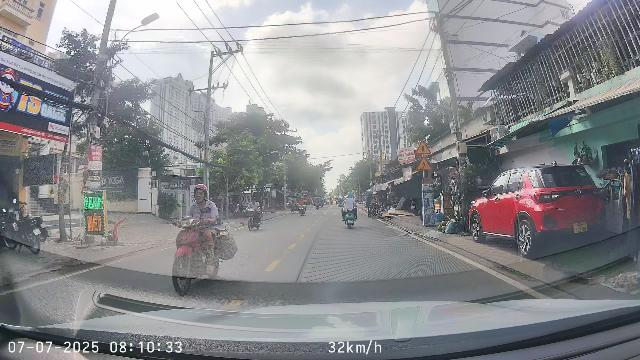207-giao-nhau-voi-duong-khong-uu-tien: (416, 140, 431, 154)
224-duong-nguoi-di-bo-cat-ngang: (417, 156, 432, 171)
